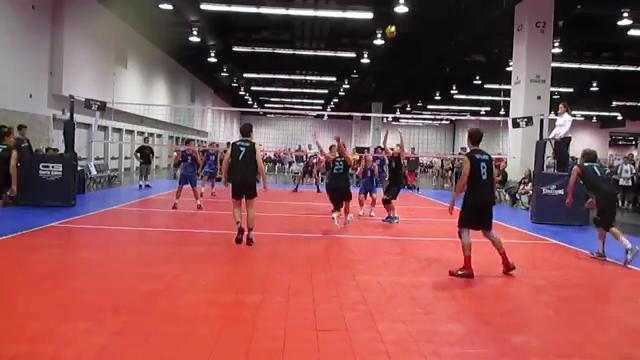Attack: (562, 143, 637, 265)
Player: (448, 128, 515, 277), (566, 149, 638, 264), (222, 123, 266, 245), (316, 136, 352, 225), (172, 139, 202, 209), (358, 156, 378, 216), (293, 153, 320, 192), (200, 142, 219, 196), (374, 146, 387, 189)
Set: (375, 123, 408, 231)
ball: (387, 25, 397, 38)
